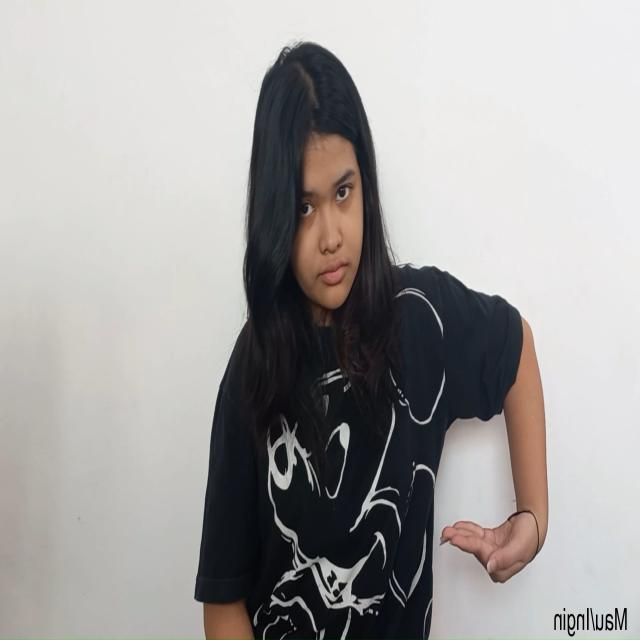Mau-Ingin -BISINDO-: (436, 505, 542, 588)
